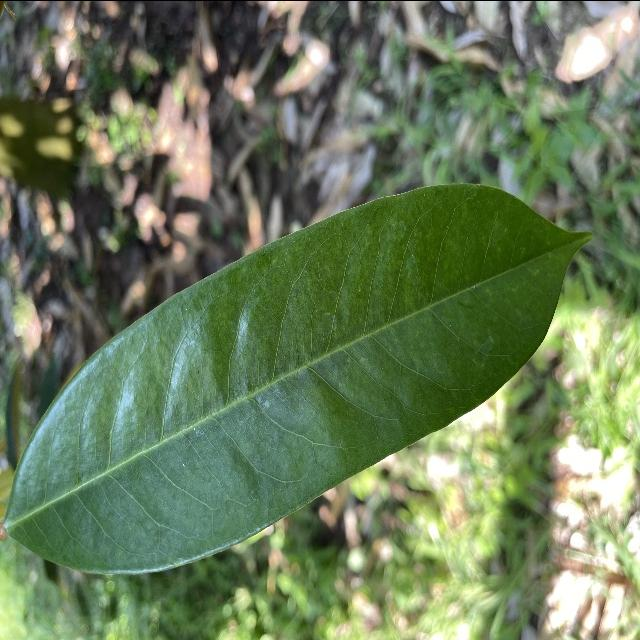No Disease: (0, 171, 600, 583)
